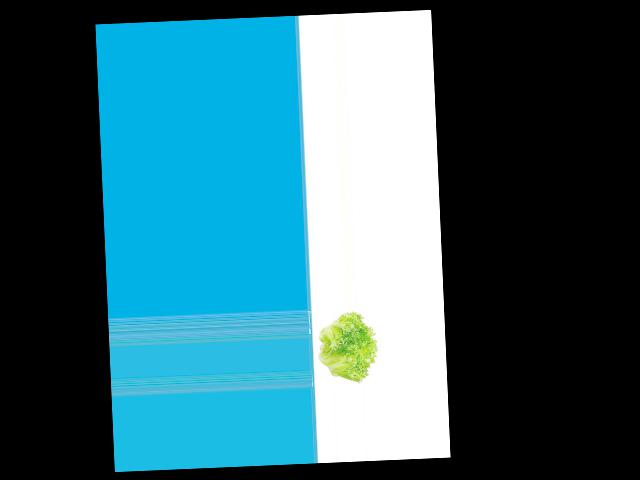lettuce: (312, 310, 380, 382)
